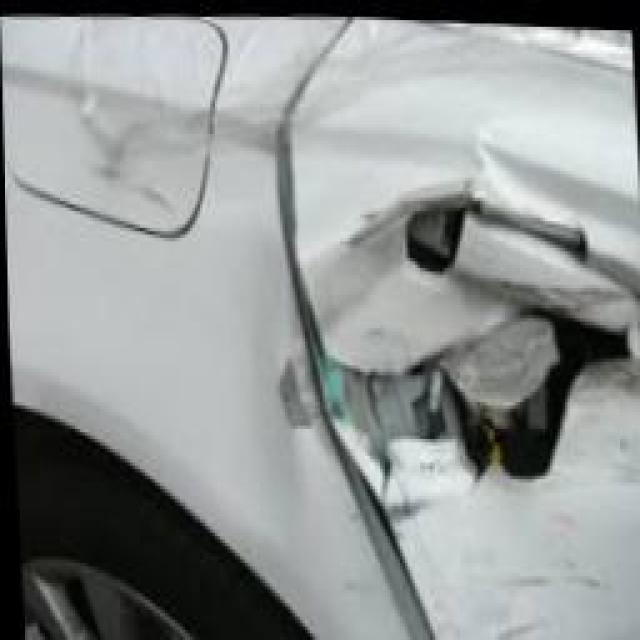Door: (282, 134, 640, 507)
